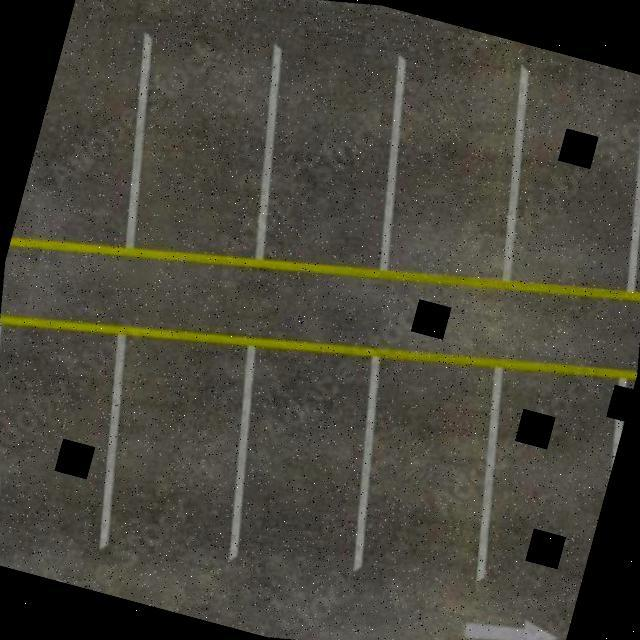space-empty: (58, 302, 300, 584), (86, 12, 317, 289), (338, 39, 569, 314), (216, 23, 444, 294), (189, 322, 414, 586), (323, 334, 541, 598), (459, 46, 640, 321), (442, 342, 636, 598), (10, 15, 188, 271), (0, 298, 160, 566)
